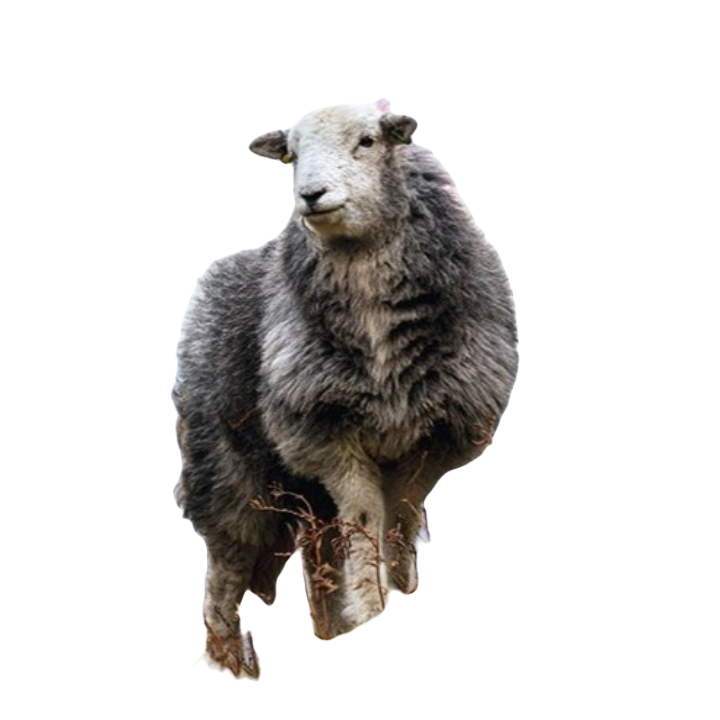Sheep: (161, 90, 523, 683)
